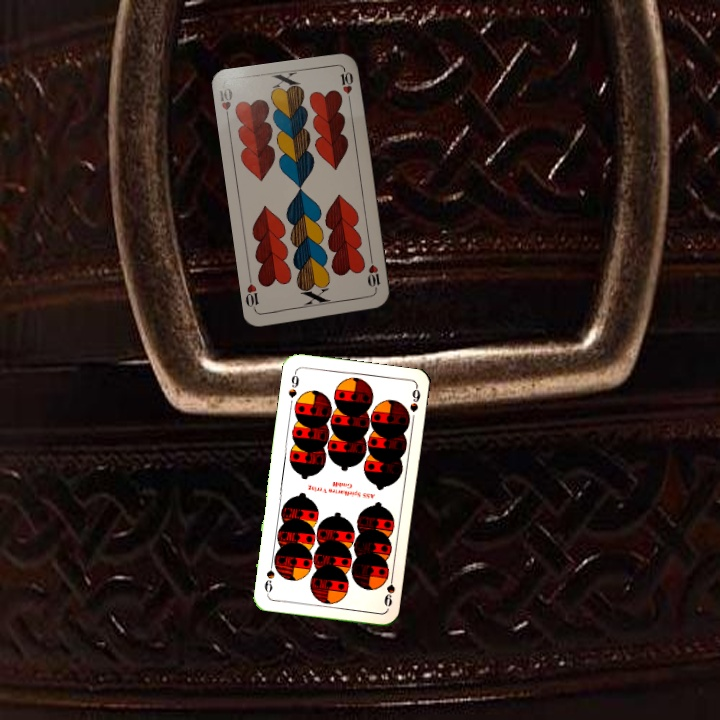H10: (363, 254, 383, 294), (215, 84, 235, 124)
S9: (378, 570, 398, 611), (285, 367, 302, 400)
